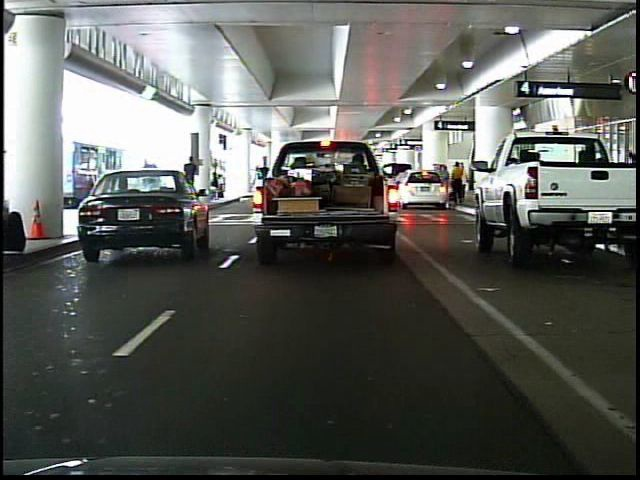person: (181, 153, 202, 209)
